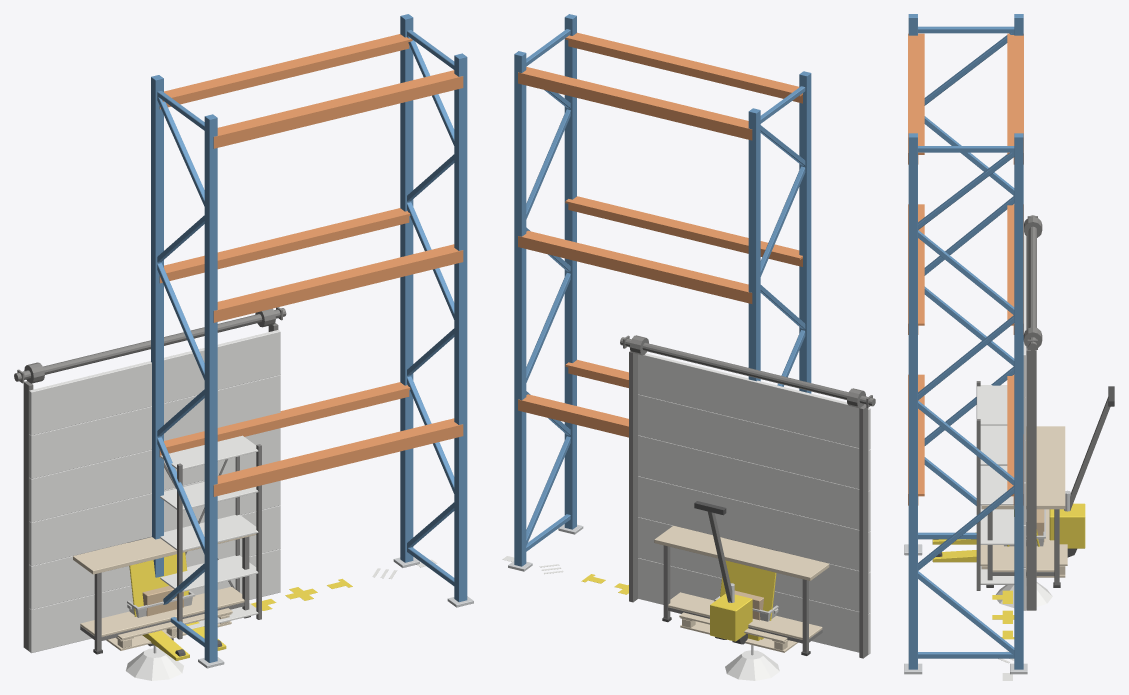
Rendered from warehouse-pack.glb.
3 renders of one model, left to right at view 1: azimuth 30°, elevation 25°; view 2: azimuth 150°, elevation 25°; view 3: azimuth 270°, elevation 25°, orthographic. The views are drawn at different scales.
Parts seen in each view (by area): view 1: SectionalOverheadDoor_Panel_06, SectionalOverheadDoor_Panel_05, PalletRack_StartBay_Upright_02, PalletRack_AddOnBay_Upright_02, SectionalOverheadDoor_Panel_04, SectionalOverheadDoor_Panel_03, PalletRack_AddOnBay_Upright_01, PalletRack_StartBay_Upright_01, PalletRack_AddOnBay_Beam_03, PalletRack_AddOnBay_Beam_05, PalletRack_AddOnBay_Beam_01, SectionalOverheadDoor_Panel_02 (+22 smaller); view 2: SectionalOverheadDoor_Panel_06, SectionalOverheadDoor_Panel_04, SectionalOverheadDoor_Panel_05, SectionalOverheadDoor_Panel_03, PalletRack_AddOnBay_Upright_01, PalletRack_AddOnBay_Upright_02, SectionalOverheadDoor_Panel_01, SectionalOverheadDoor_Panel_02, PalletRack_AddOnBay_Beam_06, PalletRack_AddOnBay_Beam_04, PalletRack_AddOnBay_Beam_05, PalletRack_StartBay_Upright_02 (+18 smaller); view 3: PalletRack_AddOnBay_Upright_01, PalletRack_AddOnBay_Upright_02, SectionalOverheadDoor_Track_R, PackingTable_Top, PalletRack_AddOnBay_Beam_05, PalletRack_AddOnBay_Beam_06, SectionalOverheadDoor_Shaft, PackingTable_Shelf_Lower, HandPalletJack_Hydraulic_Body, BoltlessShelvingUnit_Shelf_05, BoltlessShelvingUnit_Shelf_02, BoltlessShelvingUnit_Shelf_04 (+29 smaller).
Boxes of the visible parts, x1,y1,x2,y2 form: SectionalOverheadDoor_Panel_06: [29, 330, 280, 435]; SectionalOverheadDoor_Panel_05: [29, 375, 280, 478]; PalletRack_StartBay_Upright_02: [204, 114, 217, 662]; PalletRack_AddOnBay_Upright_02: [454, 53, 467, 602]; SectionalOverheadDoor_Panel_04: [29, 428, 280, 522]; SectionalOverheadDoor_Panel_03: [29, 480, 280, 565]; PalletRack_AddOnBay_Upright_01: [400, 14, 413, 562]; PalletRack_StartBay_Upright_01: [151, 75, 163, 577]; PalletRack_AddOnBay_Beam_03: [213, 244, 463, 322]; PalletRack_AddOnBay_Beam_05: [213, 70, 463, 148]; PalletRack_AddOnBay_Beam_01: [213, 418, 463, 496]; SectionalOverheadDoor_Panel_02: [29, 505, 280, 609]; SectionalOverheadDoor_Panel_06: [638, 353, 870, 450]; SectionalOverheadDoor_Panel_04: [638, 435, 870, 531]; SectionalOverheadDoor_Panel_05: [638, 394, 870, 491]; SectionalOverheadDoor_Panel_03: [638, 476, 870, 572]; PalletRack_AddOnBay_Upright_01: [514, 51, 526, 566]; PalletRack_AddOnBay_Upright_02: [564, 14, 576, 529]; SectionalOverheadDoor_Panel_01: [638, 558, 870, 654]; SectionalOverheadDoor_Panel_02: [638, 517, 870, 613]; PalletRack_AddOnBay_Beam_06: [518, 67, 752, 140]; PalletRack_AddOnBay_Beam_04: [518, 230, 752, 303]; PalletRack_AddOnBay_Beam_05: [565, 32, 802, 103]; PalletRack_StartBay_Upright_02: [799, 71, 811, 393]; PalletRack_AddOnBay_Upright_01: [1014, 133, 1023, 669]; PalletRack_AddOnBay_Upright_02: [908, 133, 917, 669]; SectionalOverheadDoor_Track_R: [1026, 348, 1036, 610]; PackingTable_Top: [981, 426, 1065, 509]; PalletRack_AddOnBay_Beam_05: [908, 33, 924, 164]; PalletRack_AddOnBay_Beam_06: [1007, 33, 1023, 164]; SectionalOverheadDoor_Shaft: [1023, 215, 1042, 350]; PackingTable_Shelf_Lower: [992, 509, 1054, 571]; HandPalletJack_Hydraulic_Body: [1049, 503, 1085, 548]; BoltlessShelvingUnit_Shelf_05: [977, 385, 1007, 425]; BoltlessShelvingUnit_Shelf_02: [980, 505, 1014, 544]; BoltlessShelvingUnit_Shelf_04: [980, 425, 1007, 465].
Size of the model in its own units: 4.39 by 6.14 by 2.01.
